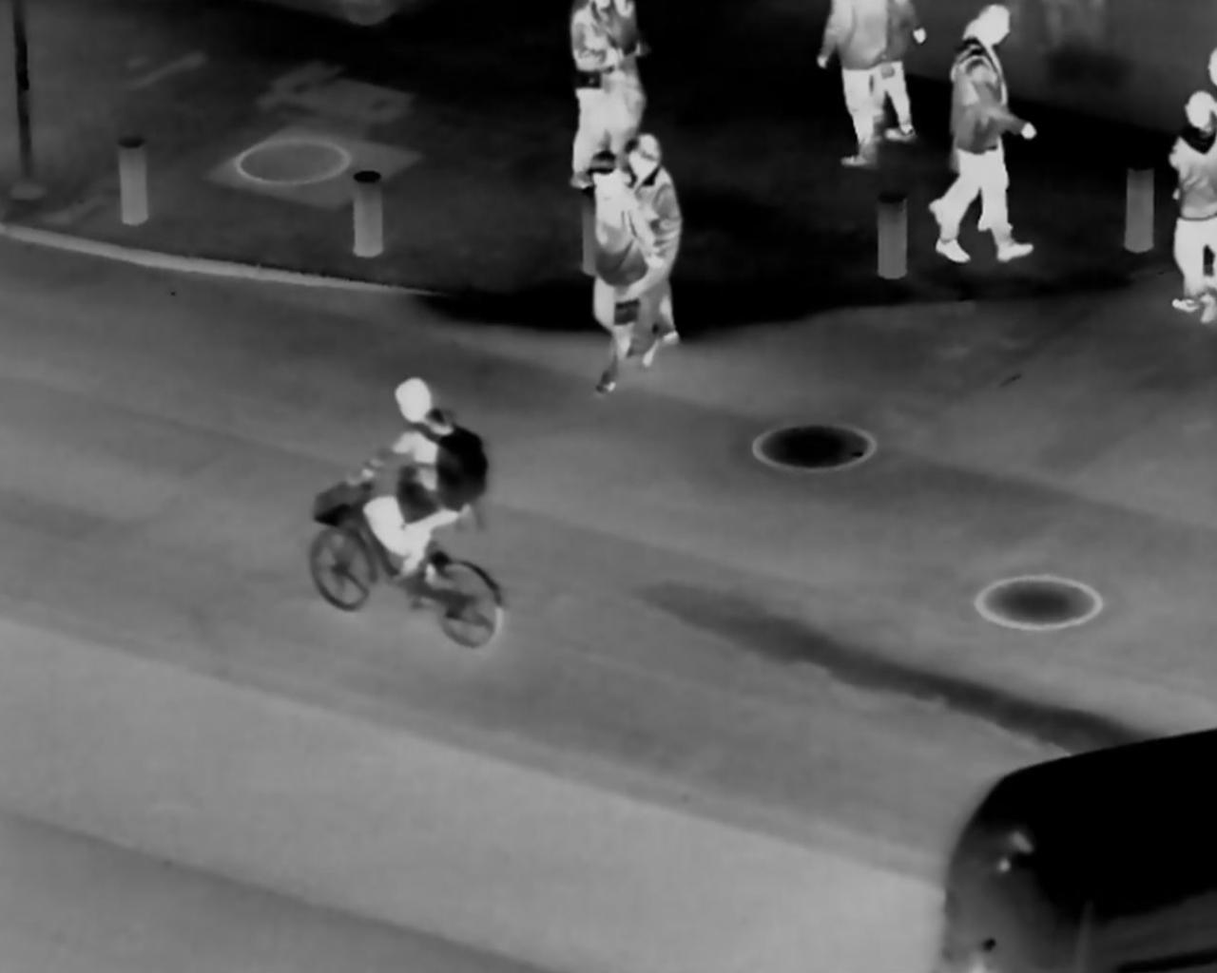person: (346, 373, 476, 590), (580, 155, 653, 393), (624, 126, 687, 348), (569, 2, 636, 177), (1166, 86, 1217, 314), (879, 2, 927, 135)
